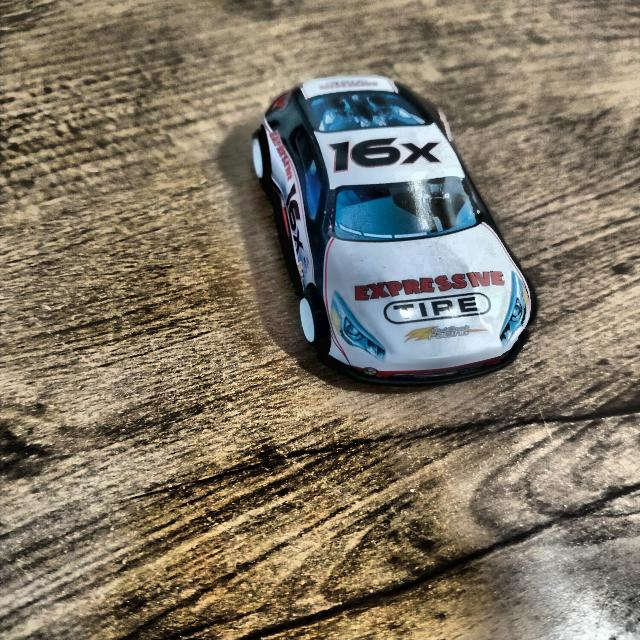Car: (236, 74, 546, 390)
